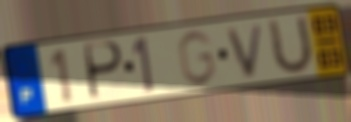1: (129, 33, 156, 96), (49, 47, 74, 105)
G: (175, 28, 218, 88)
P: (83, 39, 126, 103)
U: (267, 12, 316, 78)
V: (224, 21, 267, 80)
